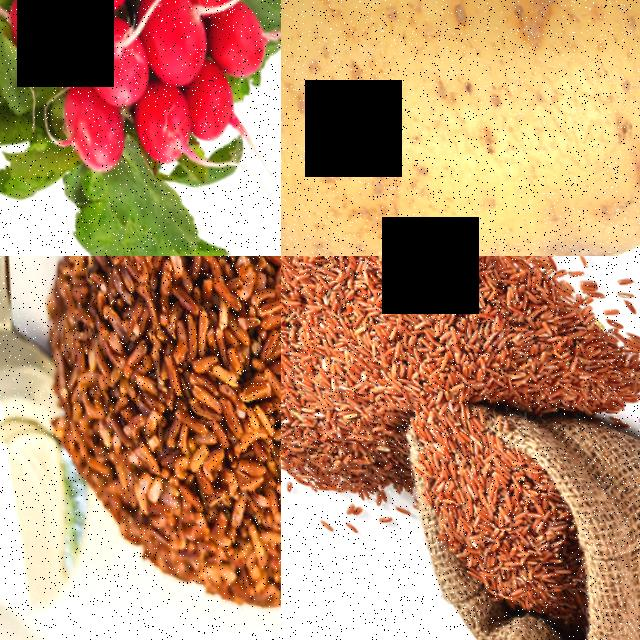potato: (281, 0, 640, 256)
radishes: (0, 0, 281, 204)
red rice: (3, 256, 281, 621), (281, 256, 640, 418), (418, 418, 563, 601), (281, 345, 406, 500)
